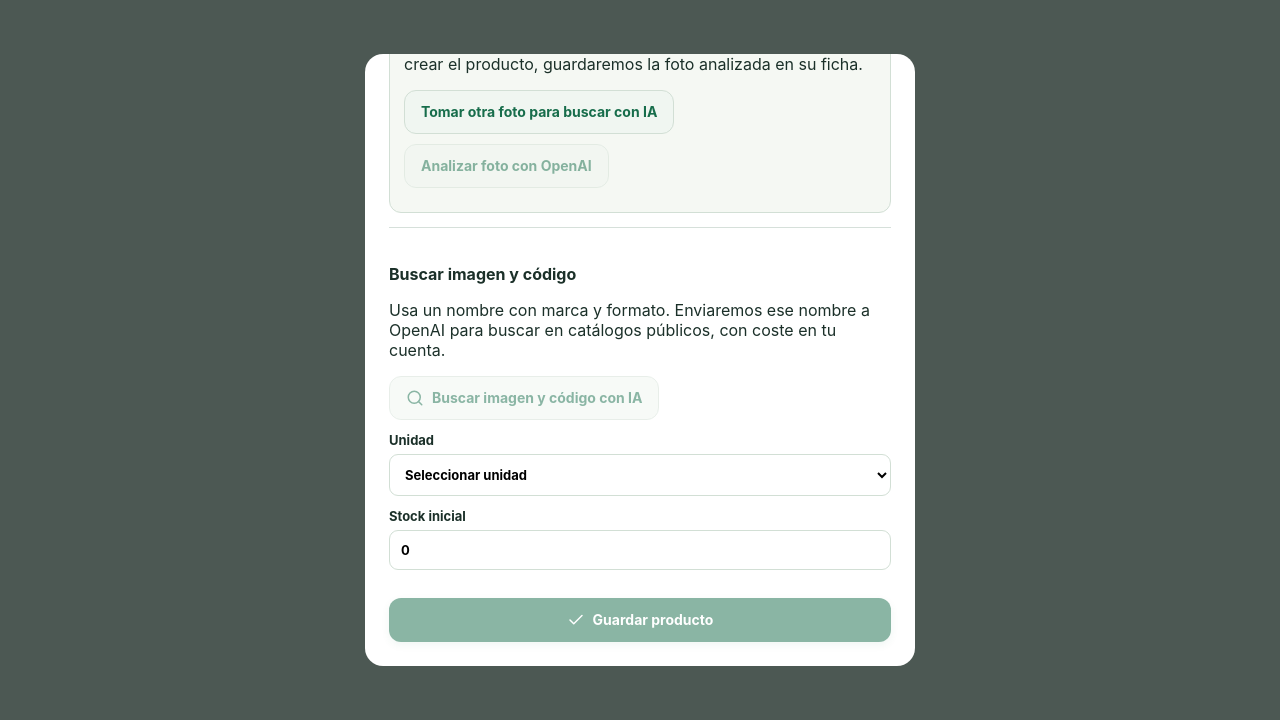
only displays the pack factor for a Pack purchase unit
(page scrolled)
Expected: the field labelled "Piezas por pack" is not shown
Select "Pack" in the dropdown labelled "Unidad". click: (640, 475)
box: [389,454,891,496]
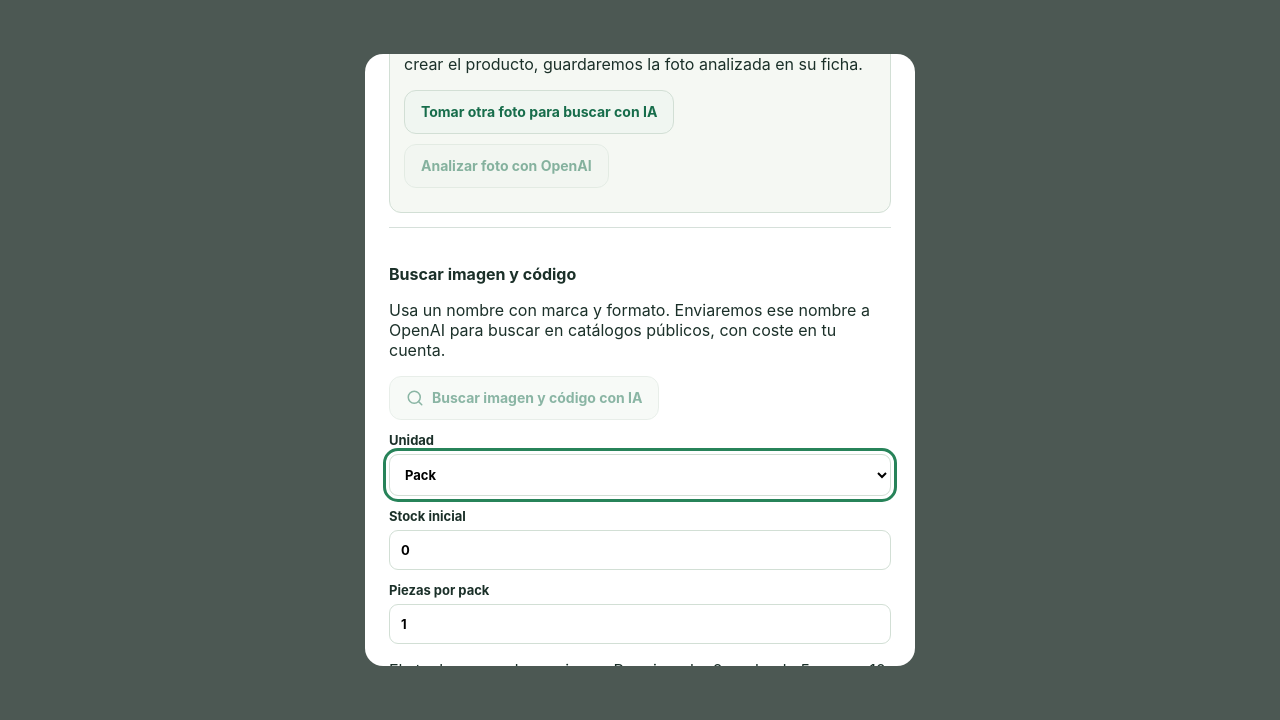
Result: the number field labelled "Piezas por pack" is shown at [389,604,891,644]
Select "Piece" in the dropdown labelled "Unidad". click: (640, 475)
box: [389,454,891,496]
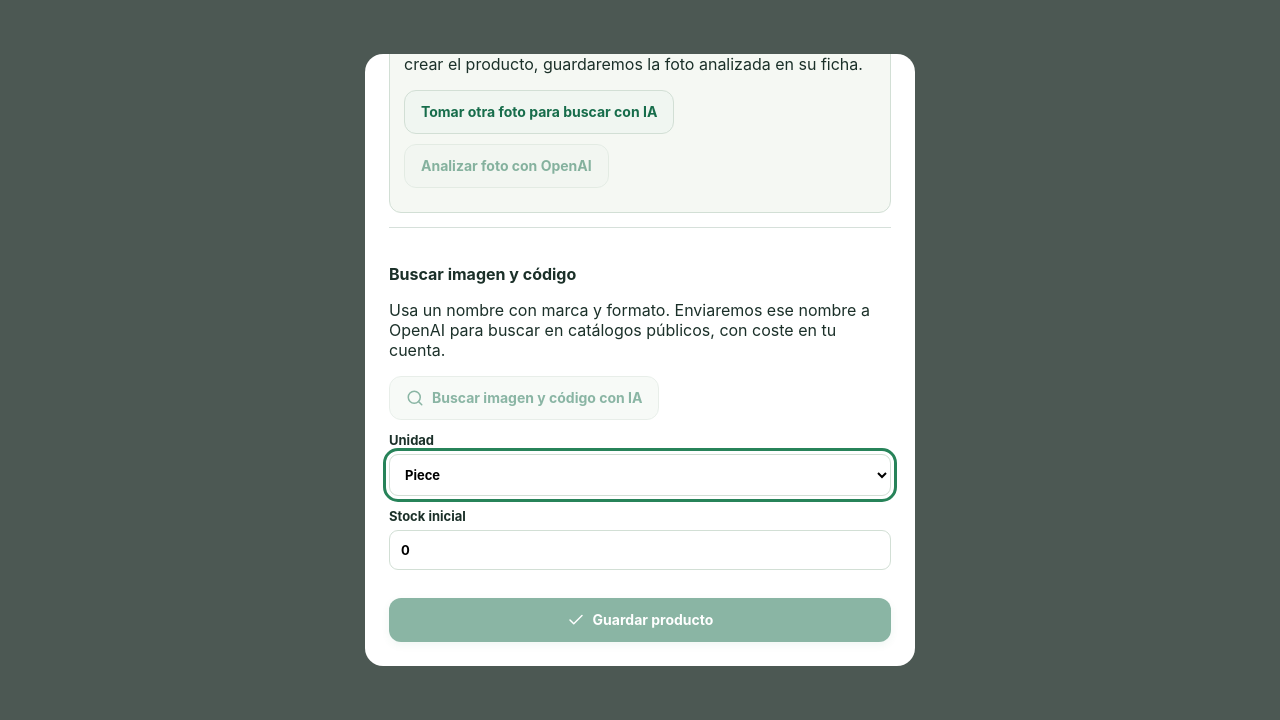
Result: the label labelled "Piezas por pack" is gone
